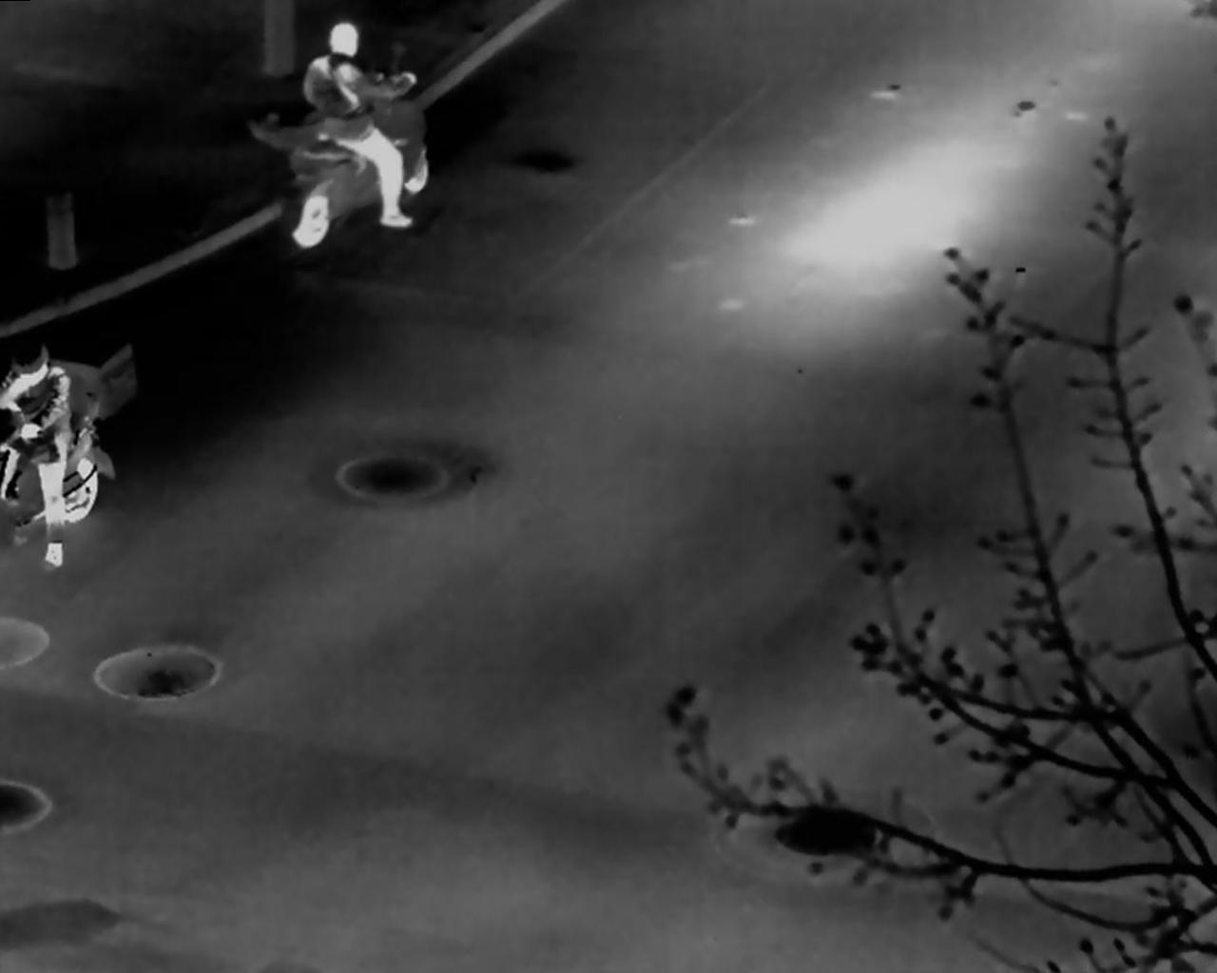person: (301, 21, 418, 229)
